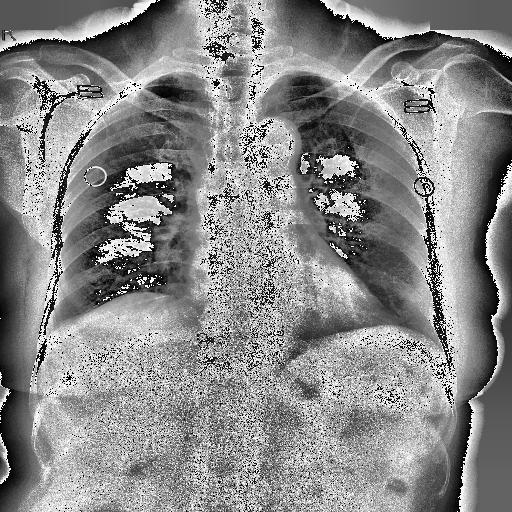0- Aortic enlargement: (244, 118, 302, 178), (238, 116, 302, 168), (242, 118, 298, 162)
10- Pleural effusion: (46, 312, 62, 345)
11- Pleural thickening: (46, 312, 62, 345), (170, 71, 200, 77)
3- Cardiomegaly: (185, 258, 394, 327), (178, 281, 395, 342)
